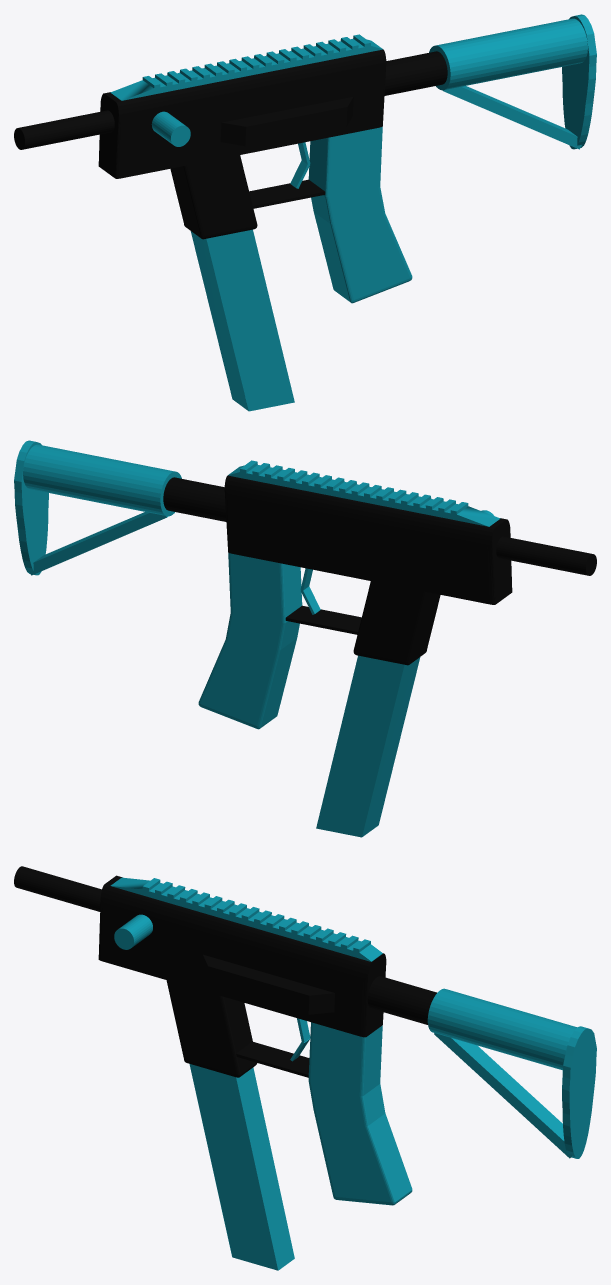
File: fgc0005.obj
3 renders of one model, top to bottom at view 1: azimuth 30°, elevation 25°; view 2: azimuth 150°, elevation 25°; view 3: azimuth 330°, elevation 25°, orthographic.
Parts seen in each view (by area): view 1: upperReceiver, rearPistolGrip, mag, StockCylinder, magWell, picatinyRail, ejectorCover, buttPlate, barrel, bufferTube, stockSupport, lowerTriggerGuard (+1 smaller); view 2: upperReceiver, rearPistolGrip, mag, StockCylinder, magWell, picatinyRail, buttPlate, barrel, bufferTube, stockSupport, lowerTriggerGuard; view 3: upperReceiver, rearPistolGrip, mag, StockCylinder, magWell, picatinyRail, ejectorCover, buttPlate, stockSupport, bufferTube, barrel, lowerTriggerGuard (+1 smaller).
Part boxes in pixels (x1,y1,x2,y2): upperReceiver: (98, 49, 386, 178); rearPistolGrip: (308, 127, 412, 303); mag: (190, 229, 294, 411); StockCylinder: (429, 18, 587, 90); magWell: (170, 155, 257, 239); picatinyRail: (110, 34, 382, 100); ejectorCover: (220, 96, 353, 146); buttPlate: (562, 14, 596, 149); barrel: (14, 110, 114, 149); bufferTube: (384, 51, 447, 95); stockSupport: (442, 86, 581, 149); lowerTriggerGuard: (249, 179, 325, 208); upperReceiver: (224, 475, 512, 604); rearPistolGrip: (198, 553, 302, 729); mag: (316, 655, 420, 837); StockCylinder: (23, 444, 181, 516); magWell: (353, 581, 440, 665); picatinyRail: (228, 460, 500, 526); buttPlate: (14, 440, 48, 575); barrel: (496, 536, 596, 575); bufferTube: (163, 477, 226, 521); stockSupport: (29, 512, 168, 575); lowerTriggerGuard: (285, 605, 361, 634); upperReceiver: (98, 875, 386, 1037); rearPistolGrip: (308, 1022, 412, 1205); mag: (189, 1064, 294, 1270); StockCylinder: (427, 988, 576, 1070); magWell: (166, 980, 257, 1077); picatinyRail: (110, 877, 382, 961); ejectorCover: (202, 954, 334, 1014); buttPlate: (562, 1026, 596, 1158); stockSupport: (434, 1033, 571, 1158); bufferTube: (367, 976, 436, 1024); barrel: (14, 866, 101, 911); lowerTriggerGuard: (236, 1042, 309, 1077).
Bounding box in the file's own units: 4.57 × 2.69 × 0.5812.
